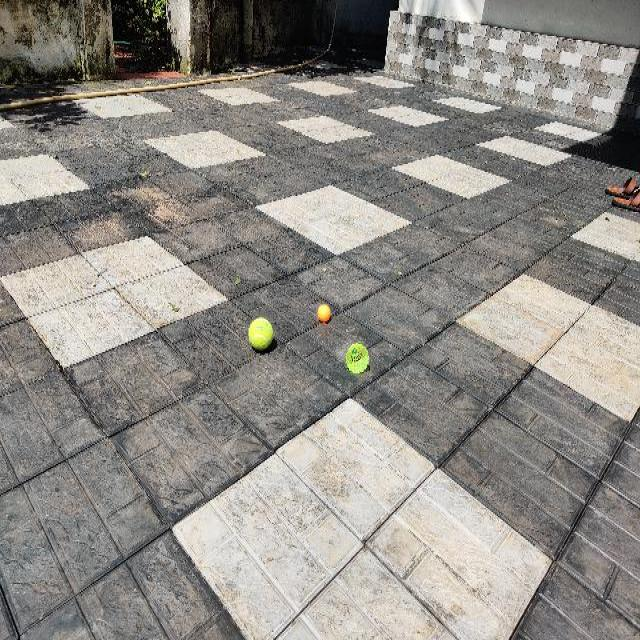ping-pong-ball: (318, 304, 330, 320)
